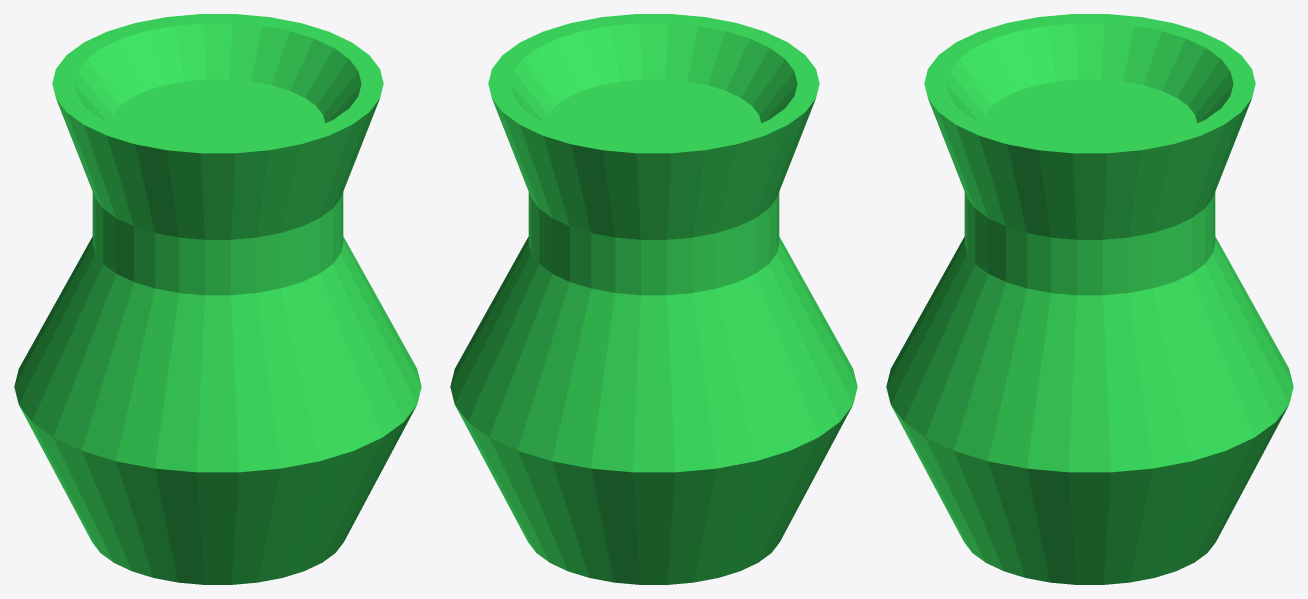
The model's file is Vase.fbx.
The picture shows the model from 3 angles, left to right: view 1: azimuth 30°, elevation 25°; view 2: azimuth 150°, elevation 25°; view 3: azimuth 270°, elevation 25°; orthographic projection.
Visible parts, largest first — view 1: Cylinder.002; view 2: Cylinder.002; view 3: Cylinder.002.
Boxes of the visible parts, left/top/right/bottom form: Cylinder.002: left=14, top=14, right=421, bottom=584; Cylinder.002: left=450, top=14, right=857, bottom=584; Cylinder.002: left=886, top=14, right=1293, bottom=584.
Bounding box in the file's own units: 24.47 × 29.8 × 24.61.
